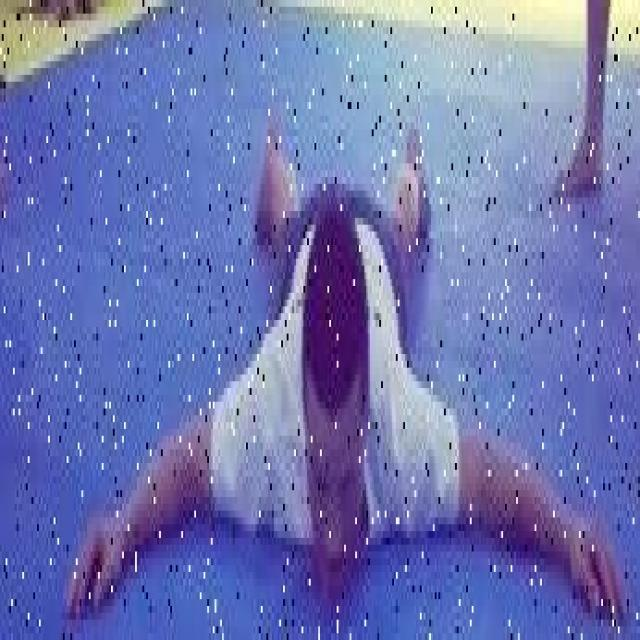fall: (83, 103, 620, 626)
